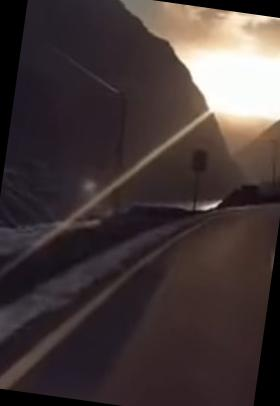right_turn: (205, 138, 280, 257)
